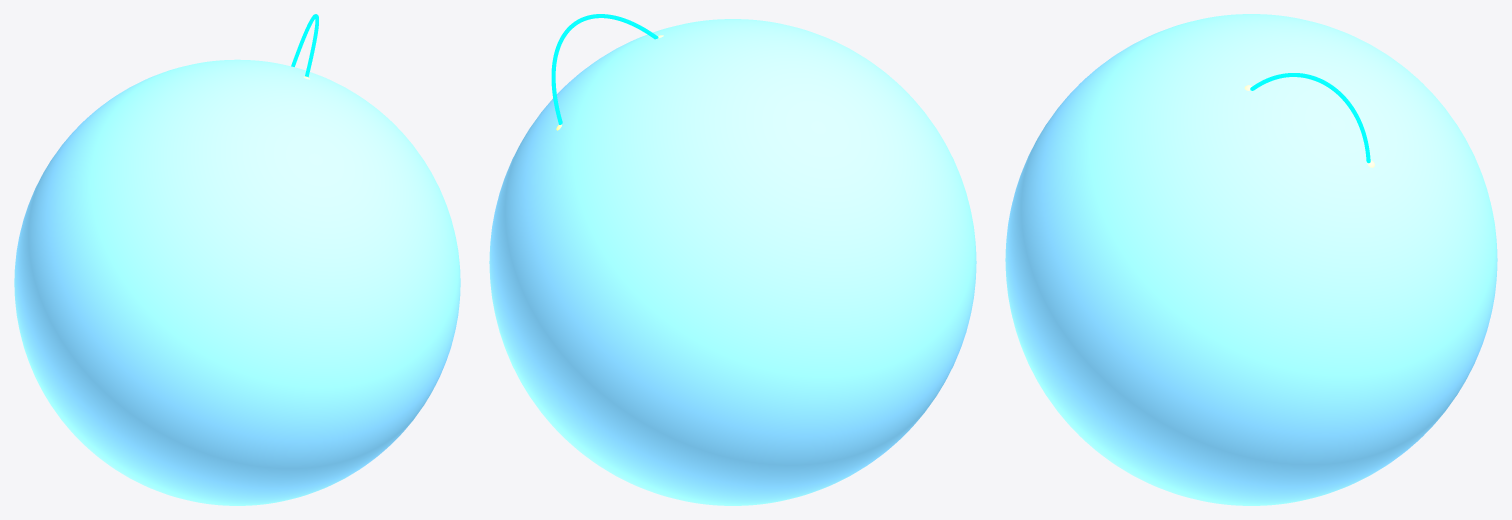
File: globe.glb
3 renders of one model, left to right at view 1: azimuth 30°, elevation 25°; view 2: azimuth 150°, elevation 25°; view 3: azimuth 270°, elevation 25°, orthographic. The views are drawn at different scales.
Visible parts, largest first — view 1: Atmosphere, Arc; view 2: Atmosphere, Arc; view 3: Atmosphere, Arc.
Part boxes in pixels (<box>): Atmosphere: <box>14,59,460,505</box>; Arc: <box>291,14,318,77</box>; Atmosphere: <box>489,19,976,505</box>; Arc: <box>551,14,658,124</box>; Atmosphere: <box>1005,14,1497,505</box>; Arc: <box>1250,73,1370,163</box>.
Bounding box in the file's own units: 0.3312 × 0.3453 × 0.3312.
